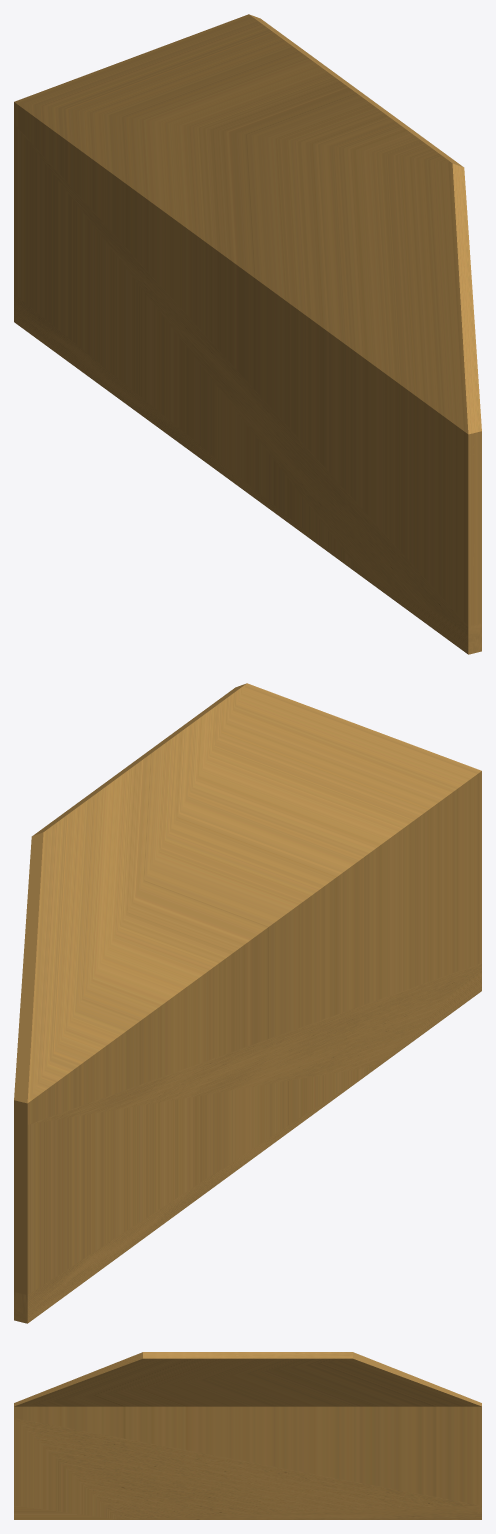
The model's file is box_front.glb.
The picture shows the model from 3 angles, top to bottom: view 1: azimuth 30°, elevation 25°; view 2: azimuth 150°, elevation 25°; view 3: azimuth 270°, elevation 25°; orthographic projection. The views are drawn at different scales.
Visible parts, largest first — view 1: Front; view 2: Front; view 3: Front.
Part boxes in pixels (x1,y1,x2,y2): Front: [14, 14, 481, 654]; Front: [14, 683, 481, 1323]; Front: [14, 1352, 481, 1519].
Bounding box in the file's own units: 2.23 × 6.56 × 14.5.
Materials: 1 (1 with a texture image).
